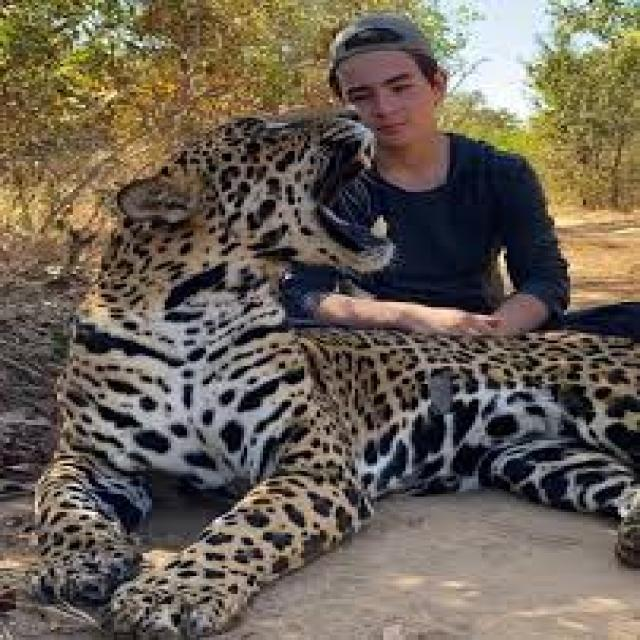Jaguar: (31, 110, 640, 640)
